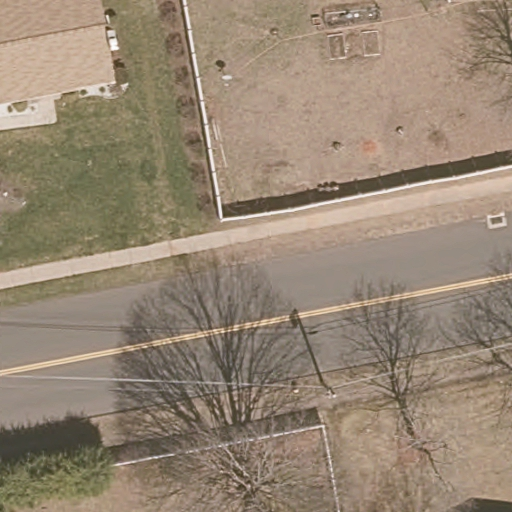DT: (320, 380, 339, 400)
